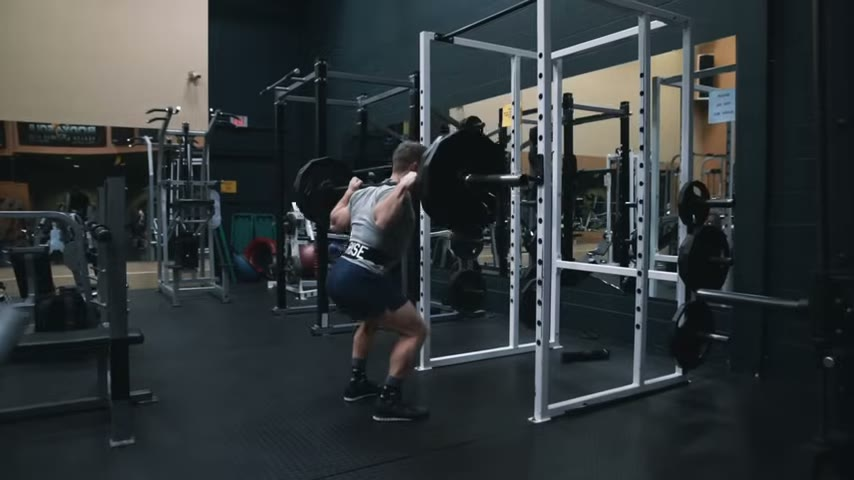barbell_plate_side: (454, 122, 527, 241)
